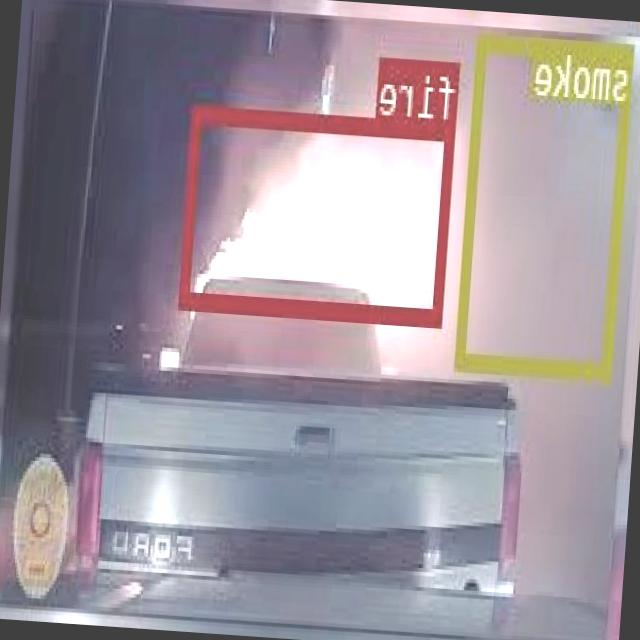fire: (182, 102, 458, 322)
smoke: (457, 31, 636, 378)
